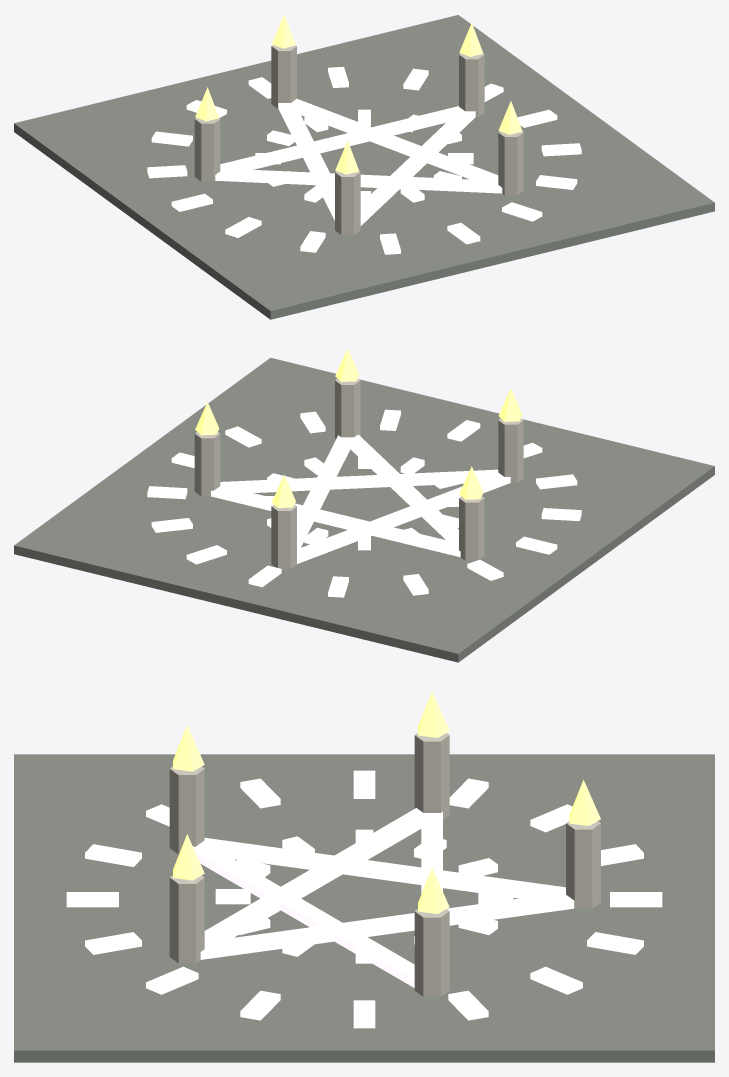
The model's file is summoning_circle.fbx.
3 renders of one model, top to bottom at view 1: azimuth 30°, elevation 25°; view 2: azimuth 150°, elevation 25°; view 3: azimuth 270°, elevation 25°, orthographic. The views are drawn at different scales.
Visible parts, largest first — view 1: summoning_circle; view 2: summoning_circle; view 3: summoning_circle.
Boxes of the visible parts, <box> form: summoning_circle: <box>14,14,714,319</box>; summoning_circle: <box>14,349,714,662</box>; summoning_circle: <box>14,691,714,1062</box>.
Size of the model in its own units: 160 by 34 by 160.
